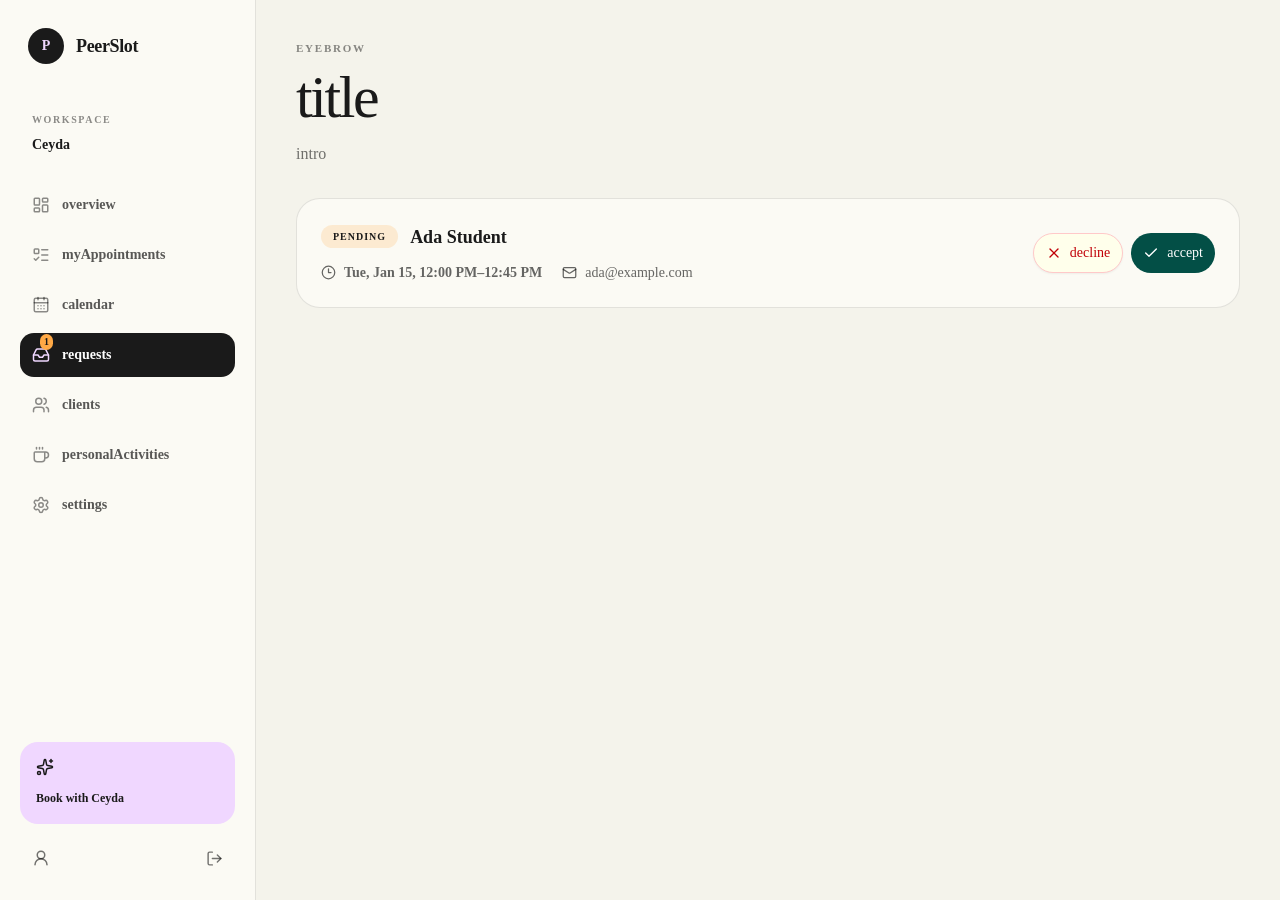
provider request navigation badge › refreshes and hides the badge after the last request is reviewed: decline
Check: the text "1" is shown, box [40, 334, 53, 350]
Click the button "decline": coordinates (1078, 252) [1033, 232, 1123, 272]
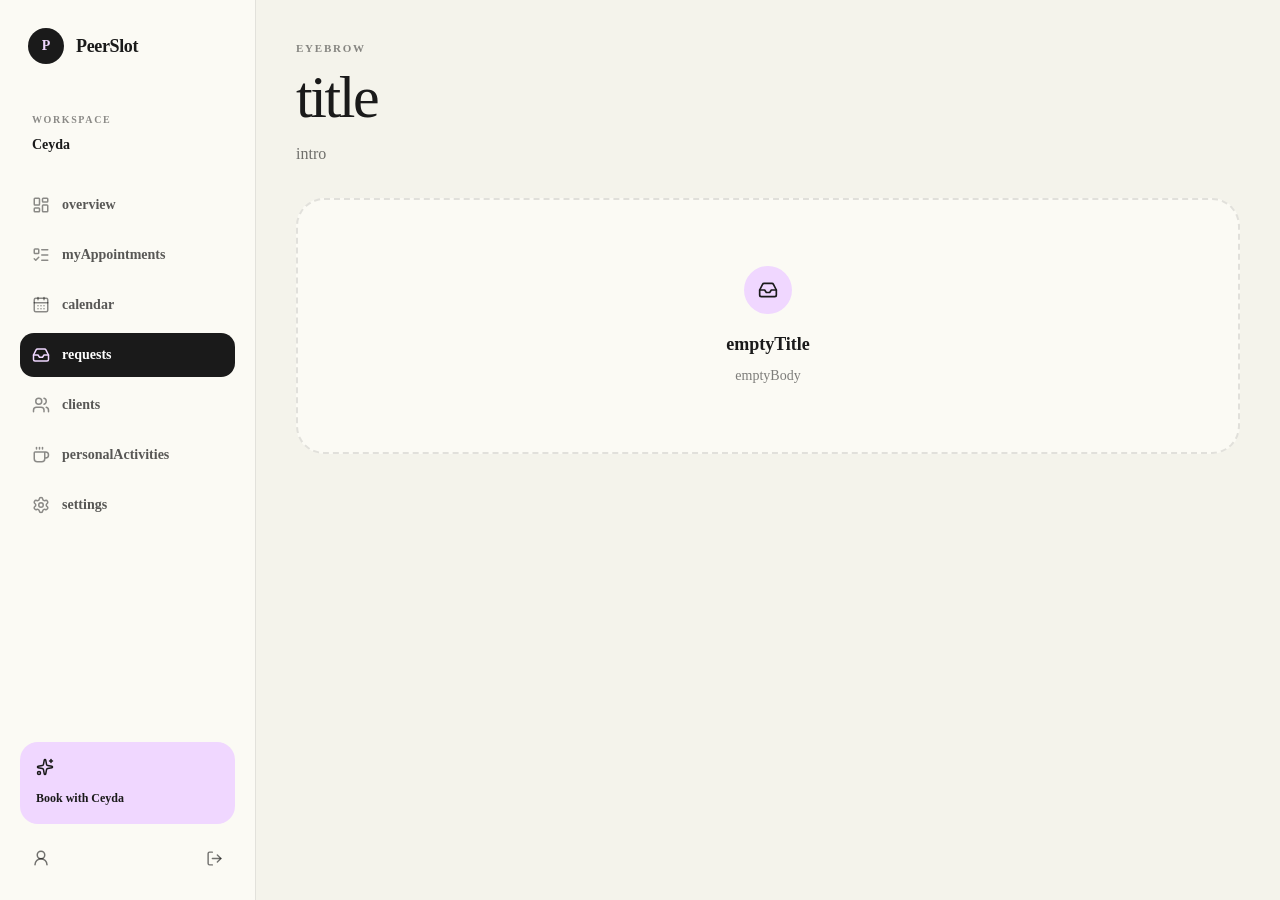
Check: the link "requests" is shown, box [20, 333, 235, 377]
Check: the heading "Ada Student" is gone
